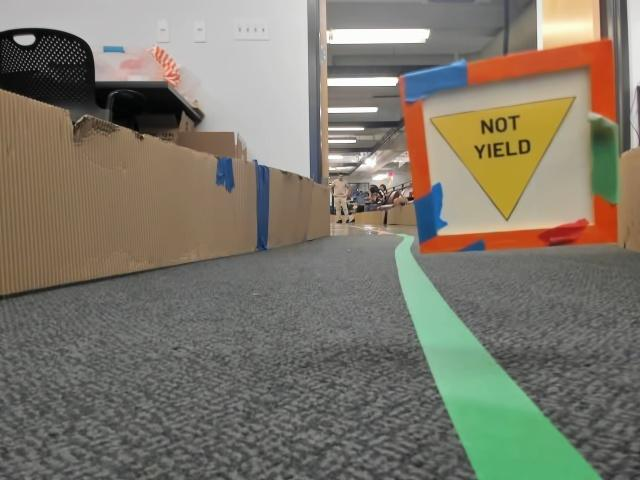Do Not Yield: (428, 117, 577, 230)
